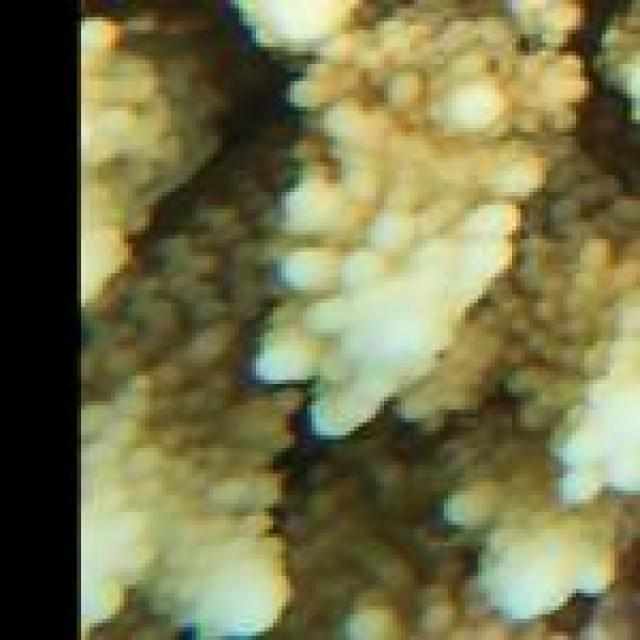Bleached Coral: (83, 0, 628, 629)
